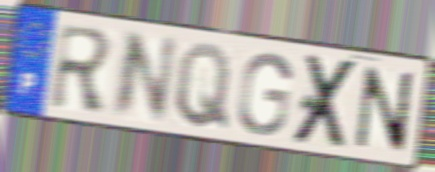G: (235, 50, 295, 138)
N: (107, 30, 181, 123), (353, 63, 415, 156)
Q: (173, 41, 233, 133)
R: (48, 22, 115, 116)
X: (289, 52, 362, 151)
